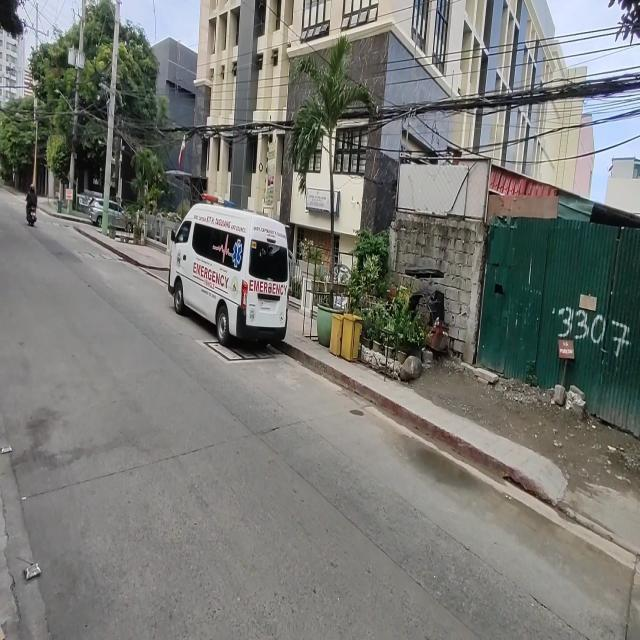emergency-vehicle: (154, 182, 296, 368), (190, 258, 233, 296)
